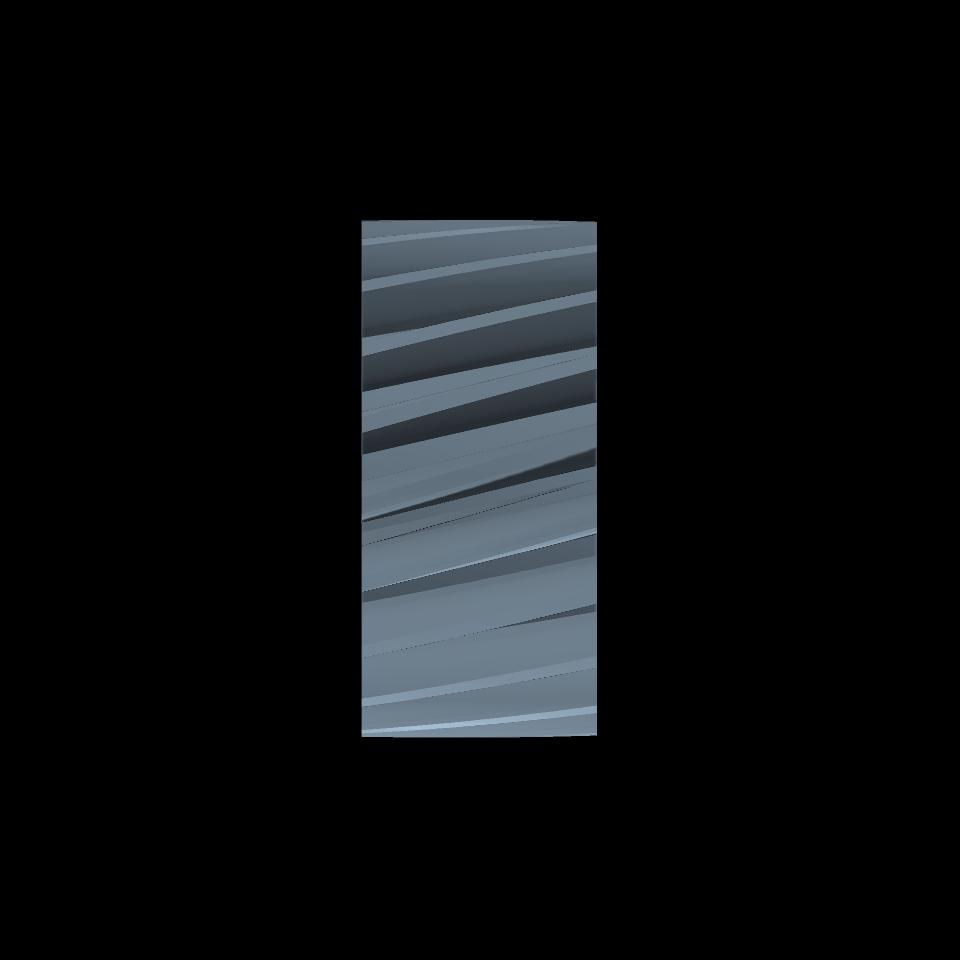Helical: (362, 220, 598, 737)
